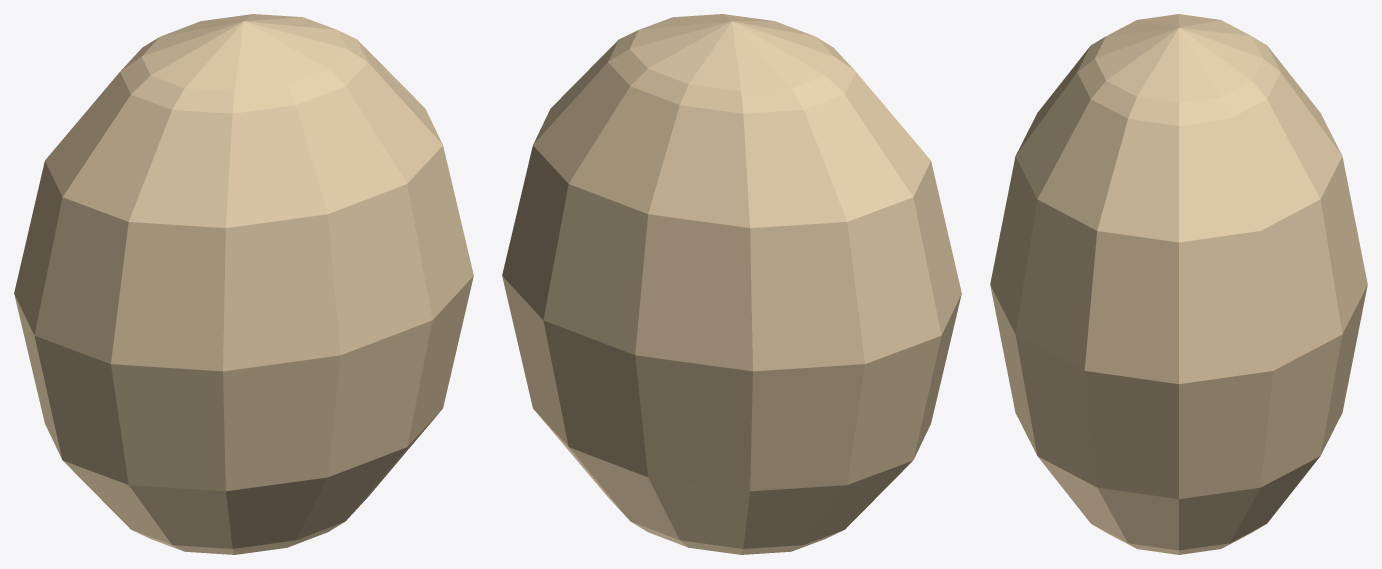
The model's file is Bag.glb.
3 views of the same model, side by side, from view 1: azimuth 30°, elevation 25°; view 2: azimuth 150°, elevation 25°; view 3: azimuth 270°, elevation 25° (orthographic). The views are drawn at different scales.
Parts seen in each view (by area): view 1: Sack; view 2: Sack; view 3: Sack.
Part boxes in pixels (x1,y1,x2,y2): Sack: (14,14,473,554); Sack: (502,14,961,554); Sack: (990,14,1367,554).
Bounding box in the file's own units: 0.44 × 0.528 × 0.352.
